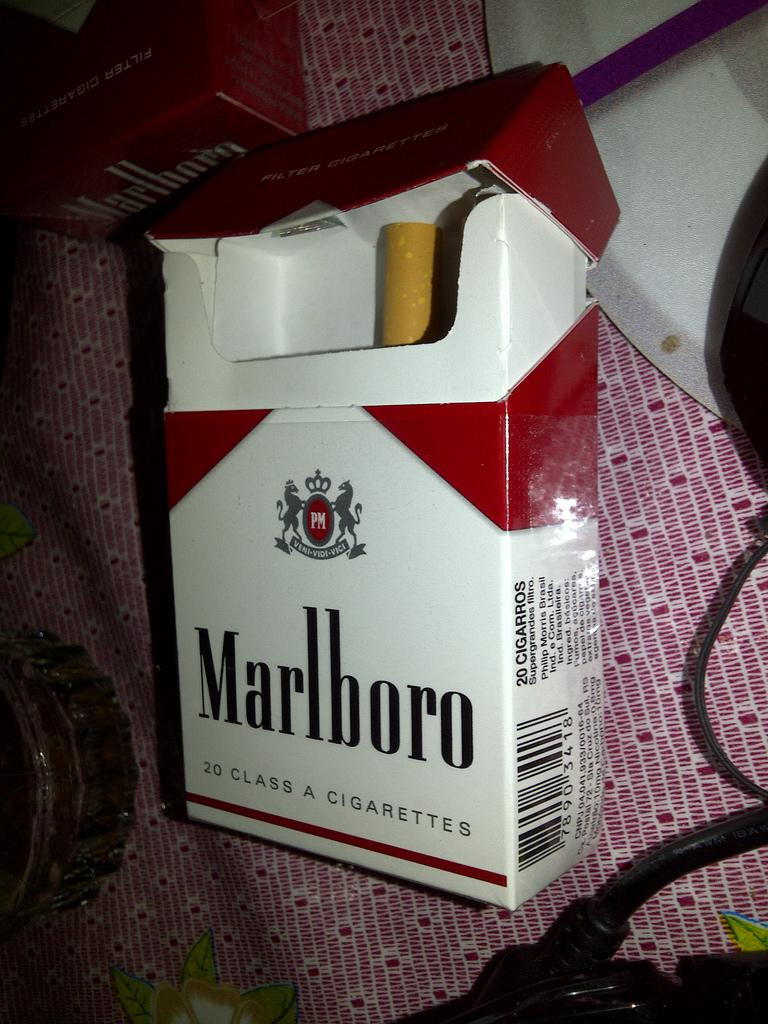marlboro_red: (173, 262, 514, 816)
